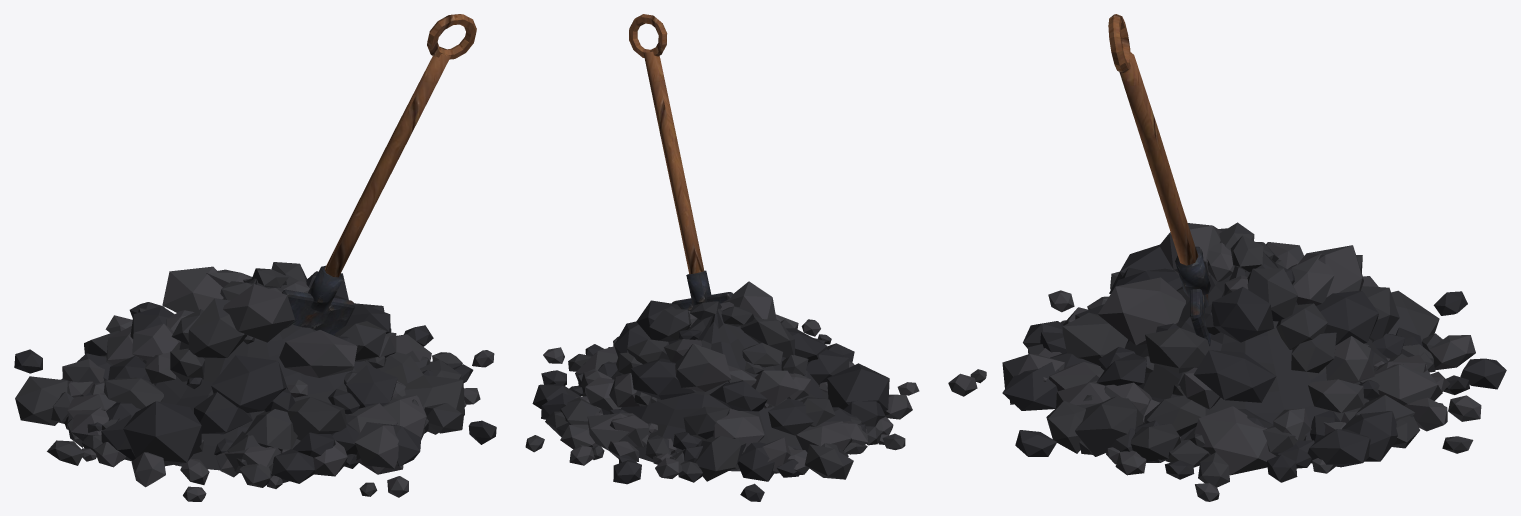
The model's file is coal_pile_shovel.glb.
The picture shows the model from 3 angles, left to right: view 1: azimuth 30°, elevation 25°; view 2: azimuth 150°, elevation 25°; view 3: azimuth 270°, elevation 25°; orthographic projection. The views are drawn at different scales.
Parts seen in each view (by area): view 1: model; view 2: model; view 3: model.
Part boxes in pixels (x1=…): model: x1=14, y1=14, x2=496, y2=501; model: x1=525, y1=14, x2=919, y2=501; model: x1=948, y1=14, x2=1506, y2=501.
Size of the model in its own units: 1.39 by 1.22 by 1.38.
Materials: 6 (2 with a texture image).
